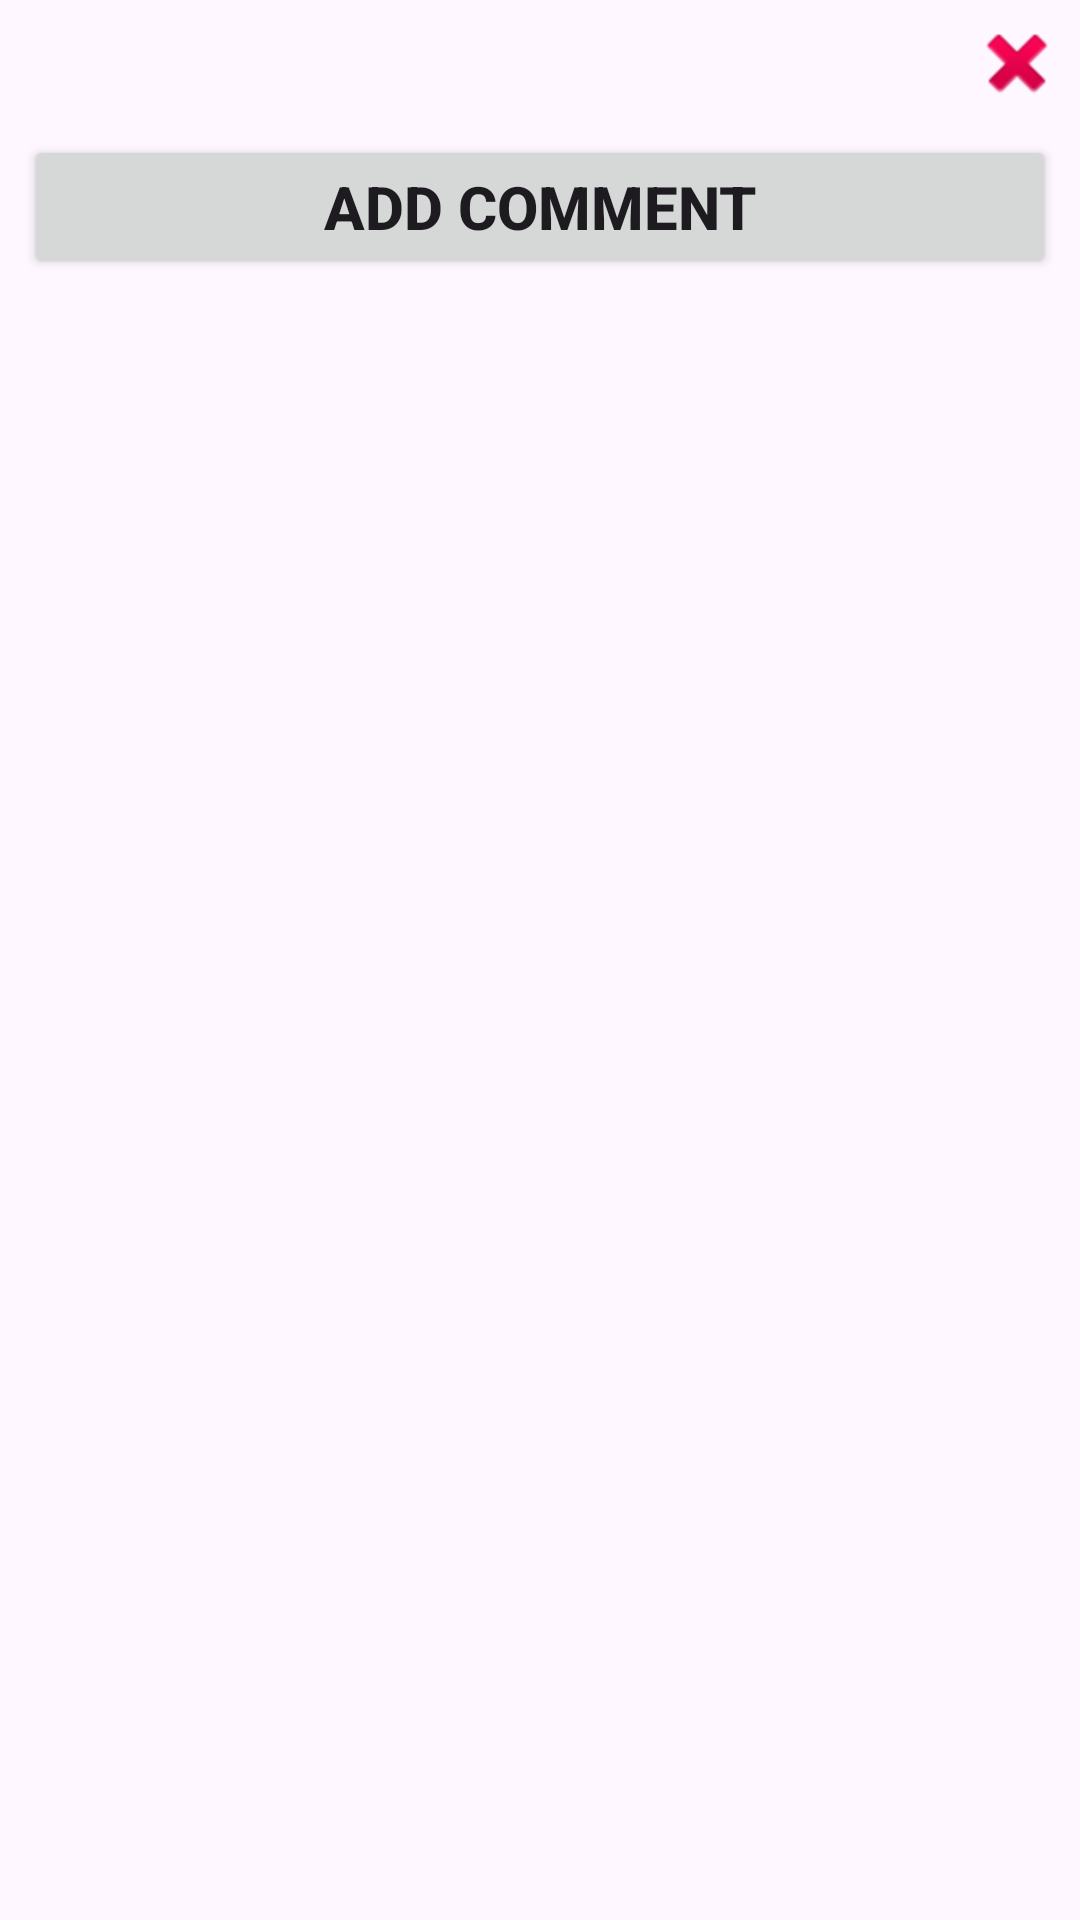

Icon bounding boxes for this 1080px x 1920px phone screenshot, format region(x1, y1, x2, y2):
delete: region(986, 34, 1048, 93)
